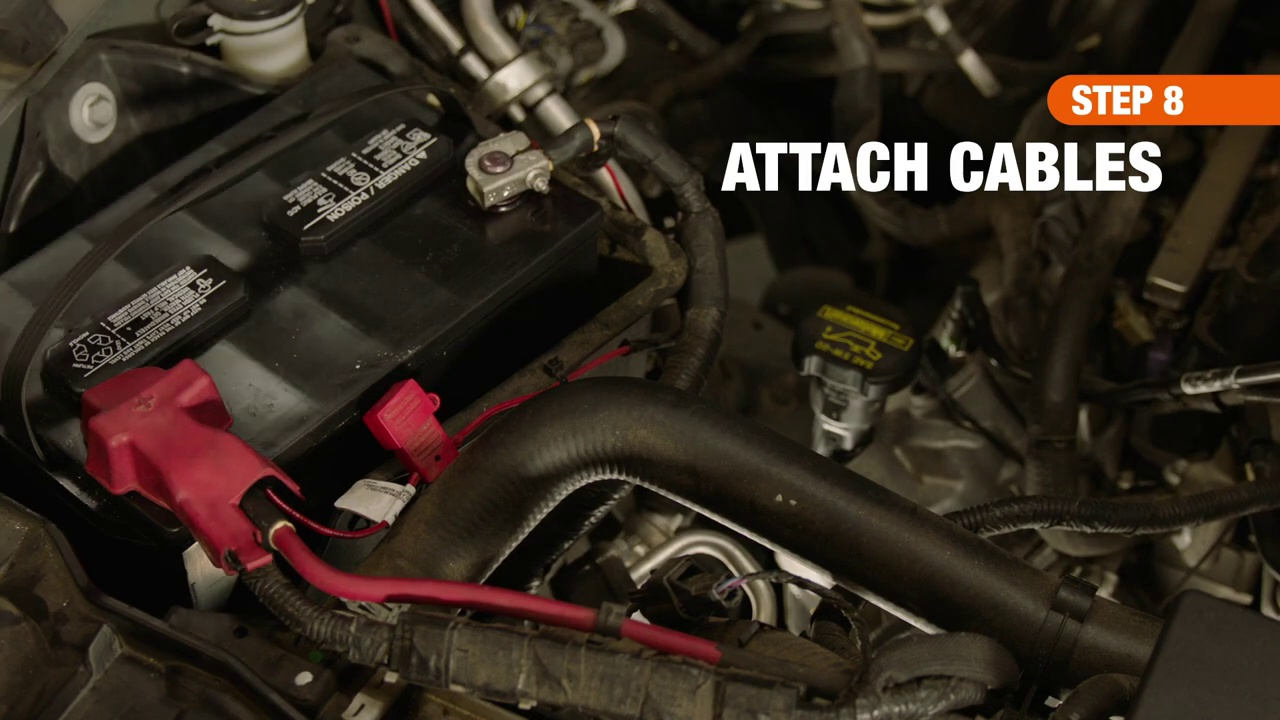battery: (23, 49, 598, 518)
neg_connected: (454, 117, 607, 230)
pos_connected: (65, 336, 293, 557)
